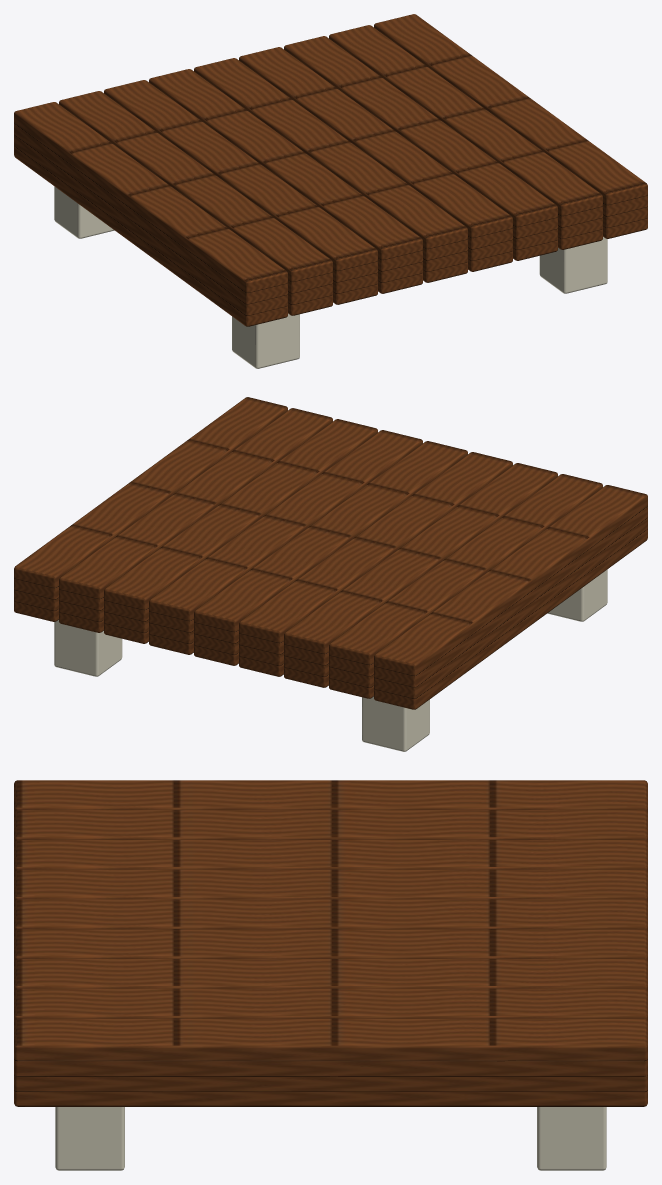
The model's file is rural-scavenging-settlements-cottage-footing-c6b3b0bb__26503.glb.
3 views of the same model, one above another, from view 1: azimuth 30°, elevation 25°; view 2: azimuth 150°, elevation 25°; view 3: azimuth 270°, elevation 25° (orthographic). The views are drawn at different scales.
Parts seen in each view (by area): view 1: cottage-footing; view 2: cottage-footing; view 3: cottage-footing.
Boxes of the visible parts, <box> form: cottage-footing: <box>14,14,647,368</box>; cottage-footing: <box>14,397,647,751</box>; cottage-footing: <box>14,780,647,1170</box>.
Bounding box in the file's own units: 1.99 × 0.5 × 2.
2 materials, 1 textured.
